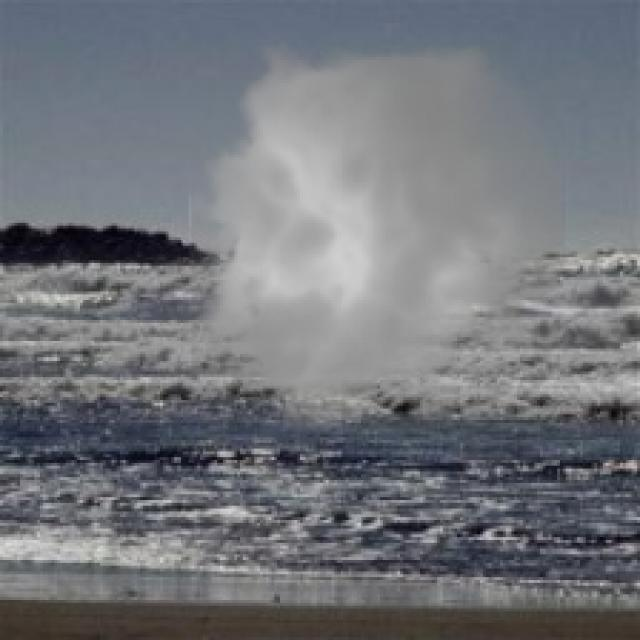smoke: (171, 23, 580, 446)
